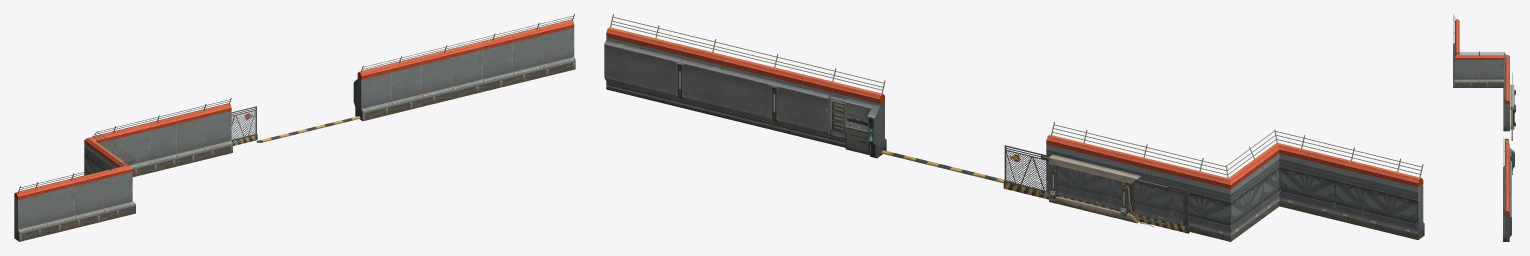
File: Building_Mainexit03.glb
The picture shows the model from 3 angles, left to right: view 1: azimuth 30°, elevation 25°; view 2: azimuth 150°, elevation 25°; view 3: azimuth 270°, elevation 25°; orthographic projection. The views are drawn at different scales.
Visible parts, largest first — view 1: xiutz_mainexit_03_0; view 2: xiutz_mainexit_03_0; view 3: xiutz_mainexit_03_0.
Boxes of the visible parts, x1,y1,x2,y2 form: xiutz_mainexit_03_0: (14,14,575,241); xiutz_mainexit_03_0: (604,14,1424,241); xiutz_mainexit_03_0: (1453,14,1515,241).
Size of the model in its own units: 74.43 by 6.68 by 10.3.
Materials: 2 (2 with a texture image).
